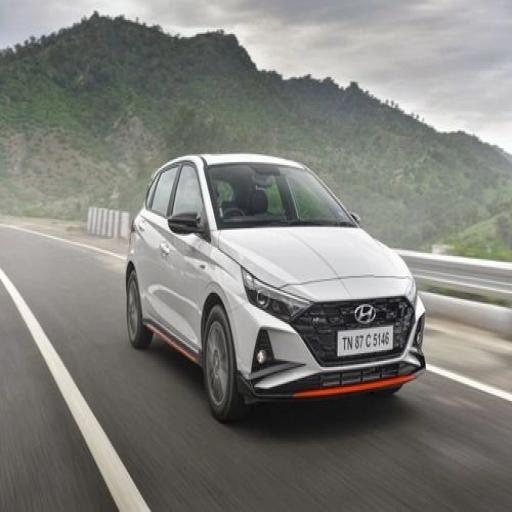License: (334, 324, 398, 355)
